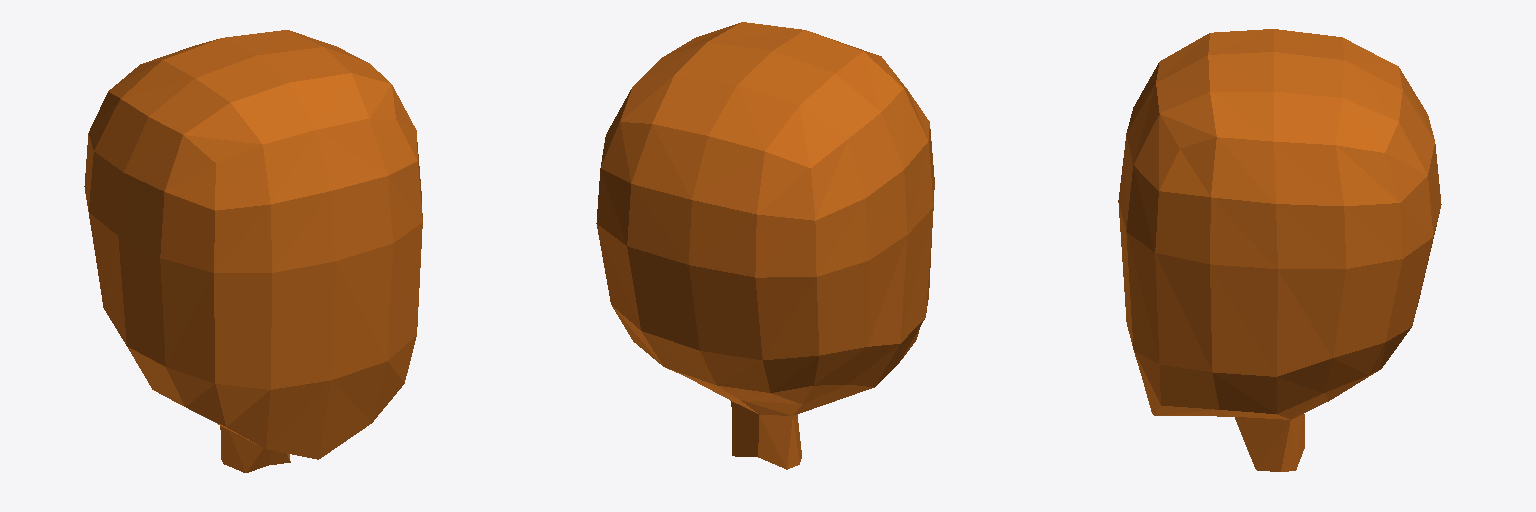
File: head.obj
The picture shows the model from 3 angles: view 1: azimuth 30°, elevation 25°; view 2: azimuth 150°, elevation 25°; view 3: azimuth 270°, elevation 25°; orthographic projection.
Visible parts, largest first — view 1: Body.001_Cube.001; view 2: Body.001_Cube.001; view 3: Body.001_Cube.001.
Boxes of the visible parts, <box> form: Body.001_Cube.001: <box>84,30,422,472</box>; Body.001_Cube.001: <box>596,22,934,469</box>; Body.001_Cube.001: <box>1118,29,1441,471</box>.
Bounding box in the file's own units: 0.6134 × 0.8594 × 0.619.